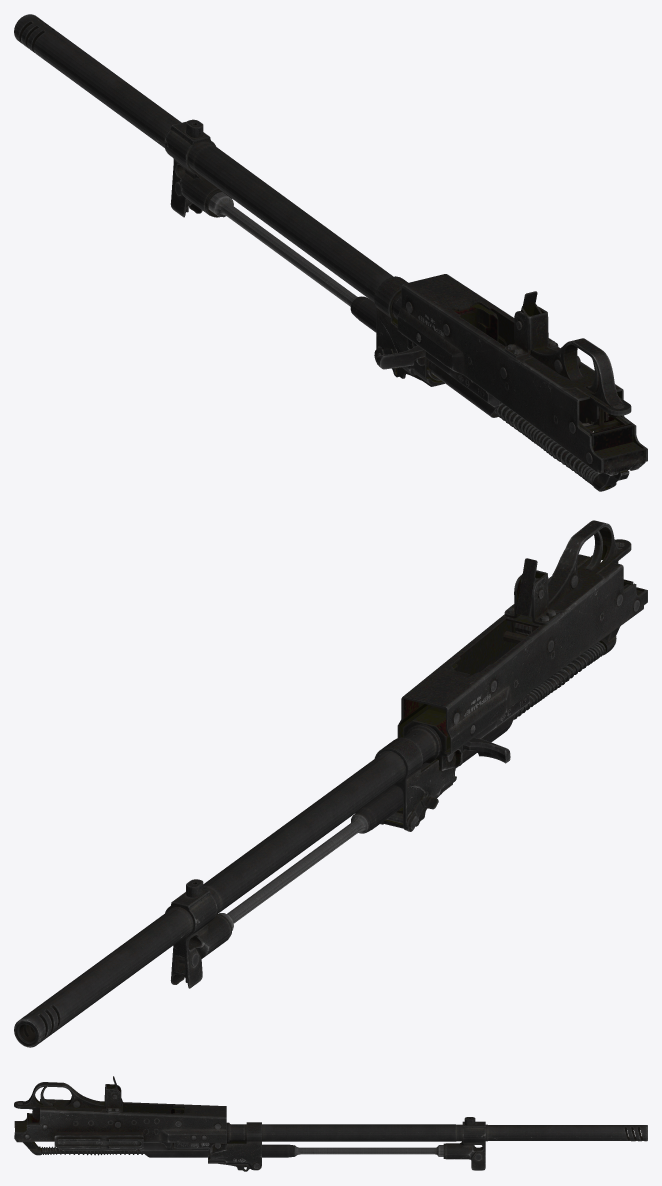
3 views of the same model, one above another, from view 1: azimuth 30°, elevation 25°; view 2: azimuth 150°, elevation 25°; view 3: azimuth 270°, elevation 25° (orthographic). The views are drawn at different scales.
Parts seen in each view (by area): view 1: TW_5c501a4d2e221602b412b540_PZ_Import; view 2: TW_5c501a4d2e221602b412b540_PZ_Import; view 3: TW_5c501a4d2e221602b412b540_PZ_Import.
Boxes of the visible parts, x1,y1,x2,y2 form: TW_5c501a4d2e221602b412b540_PZ_Import: (14,14,647,491); TW_5c501a4d2e221602b412b540_PZ_Import: (14,520,647,1047); TW_5c501a4d2e221602b412b540_PZ_Import: (14,1076,647,1171).
Bounding box in the file's own units: 0.0455 × 0.4454 × 0.071.
Materials: 1 (1 with a texture image).
